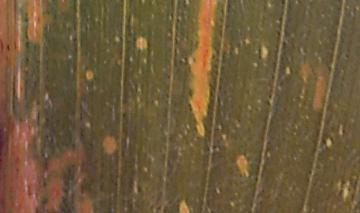tarspot: (41, 151, 50, 170), (134, 182, 143, 195), (22, 10, 31, 21), (4, 42, 11, 52), (264, 98, 271, 107), (343, 53, 351, 60), (307, 167, 313, 176), (281, 39, 288, 46), (211, 143, 217, 151), (120, 111, 127, 117), (14, 166, 21, 172), (174, 17, 182, 22), (43, 115, 49, 121)
